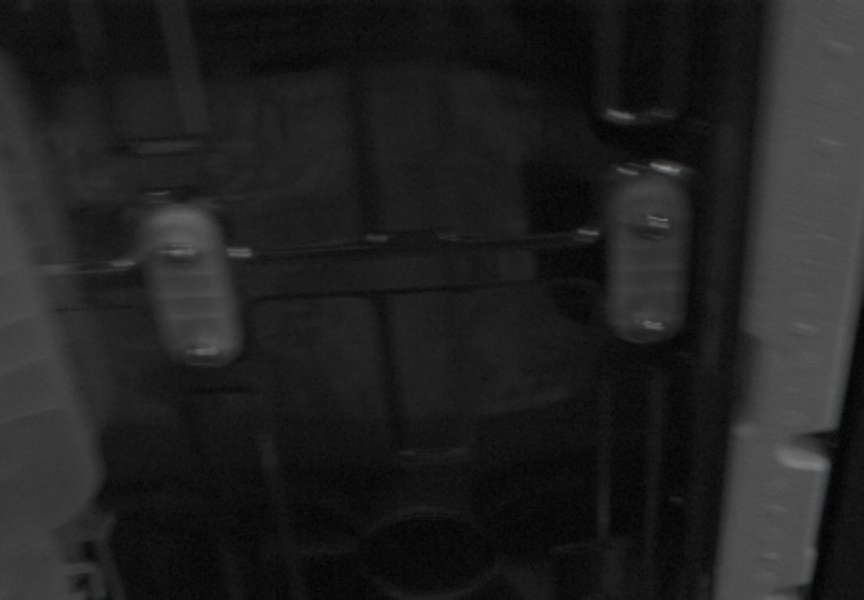screw: (630, 306, 672, 339), (158, 243, 208, 270), (183, 337, 233, 363), (631, 215, 676, 237)
